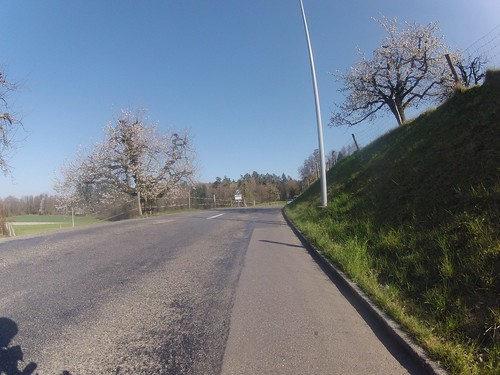grass: (282, 84, 500, 362)
road: (1, 192, 408, 375)
sky: (6, 1, 479, 188)
tree: (330, 24, 463, 127), (66, 120, 195, 215)
